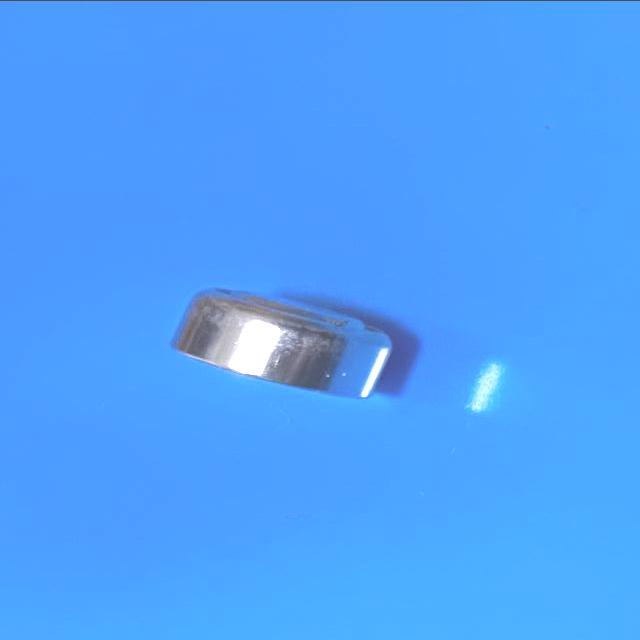COIN: (172, 284, 402, 402)
